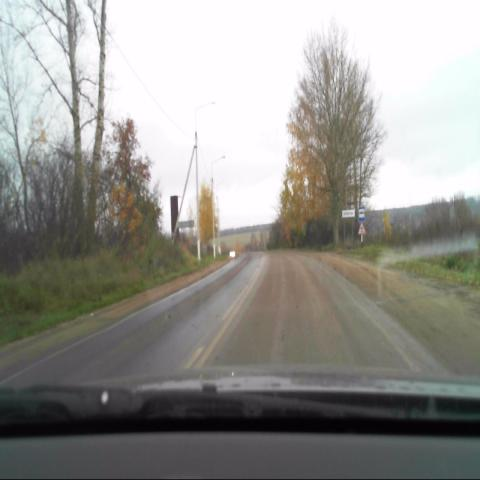1_15: (357, 223, 365, 234)
5_16: (358, 207, 366, 220)
